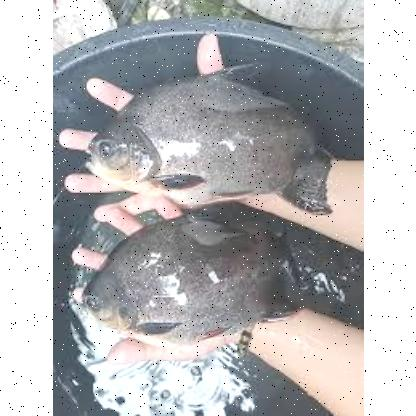ikan-pacu: (84, 78, 340, 206), (84, 214, 320, 338)
